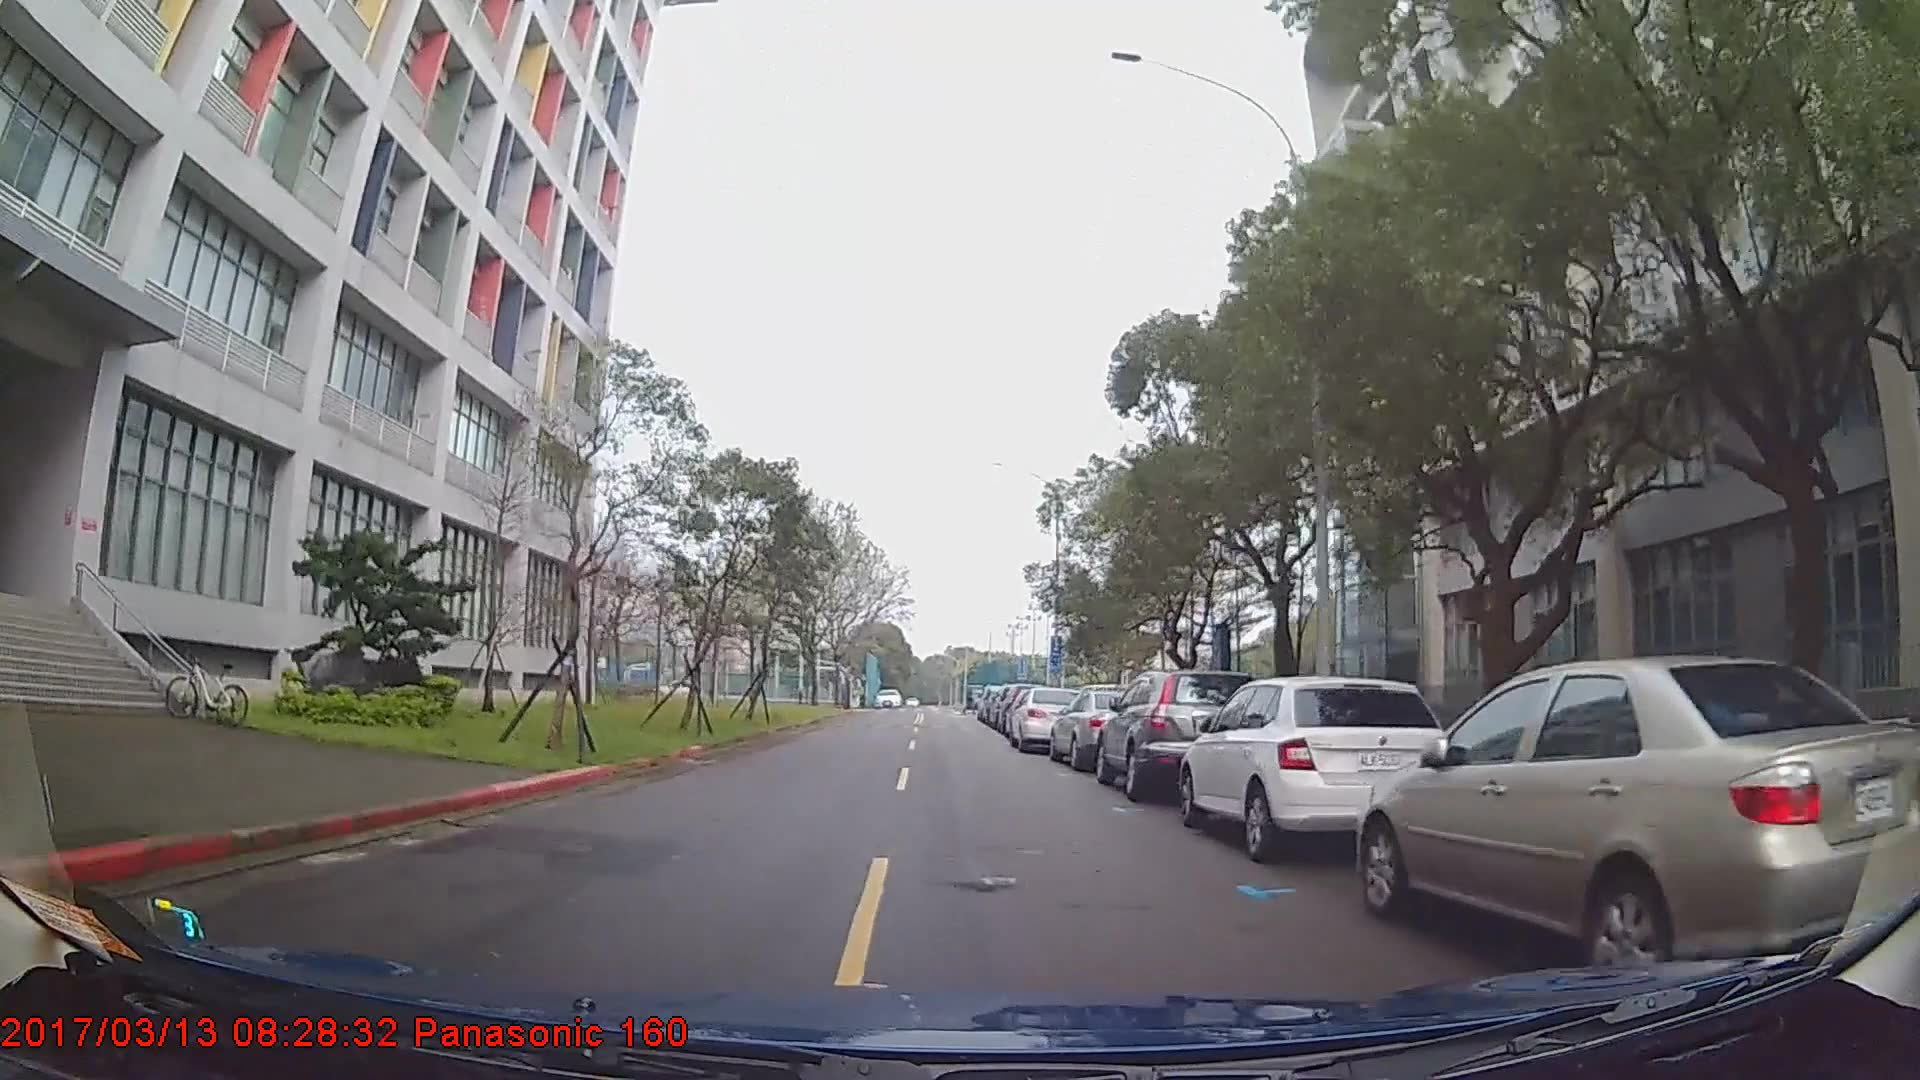vehicle: (1357, 654, 1920, 989), (1178, 675, 1451, 862), (1092, 669, 1266, 802), (1046, 686, 1149, 769), (1007, 684, 1087, 753)
